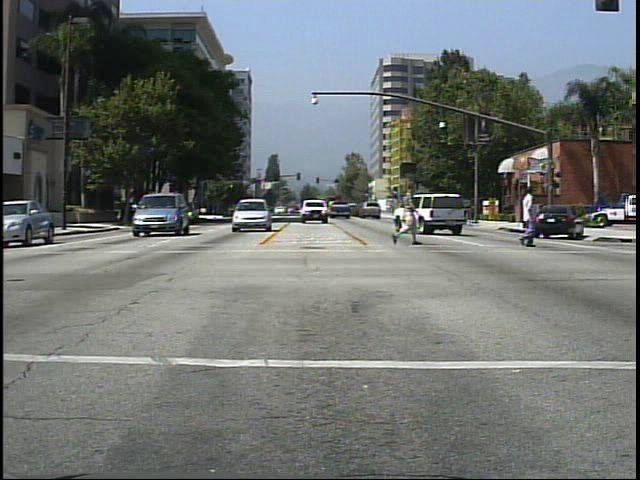person: (509, 179, 546, 253), (391, 177, 428, 251)
